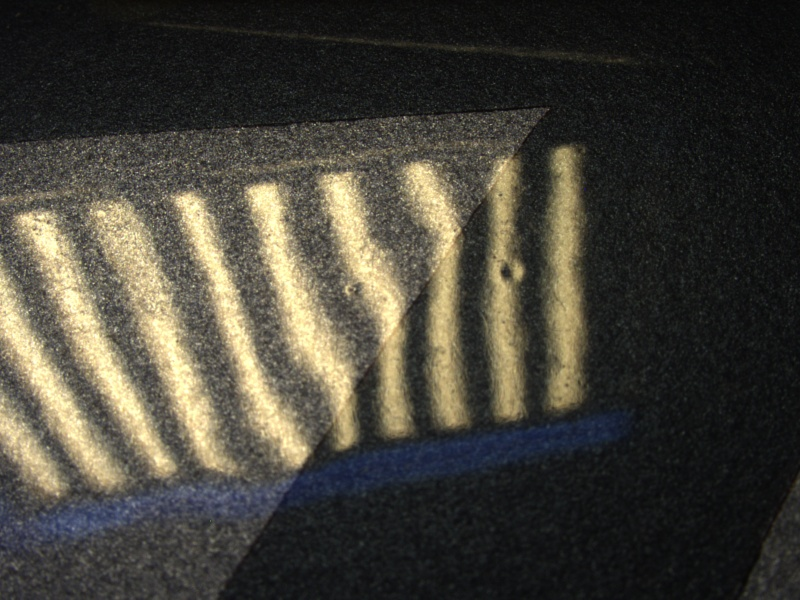bad: (490, 251, 536, 292), (339, 272, 382, 312)
